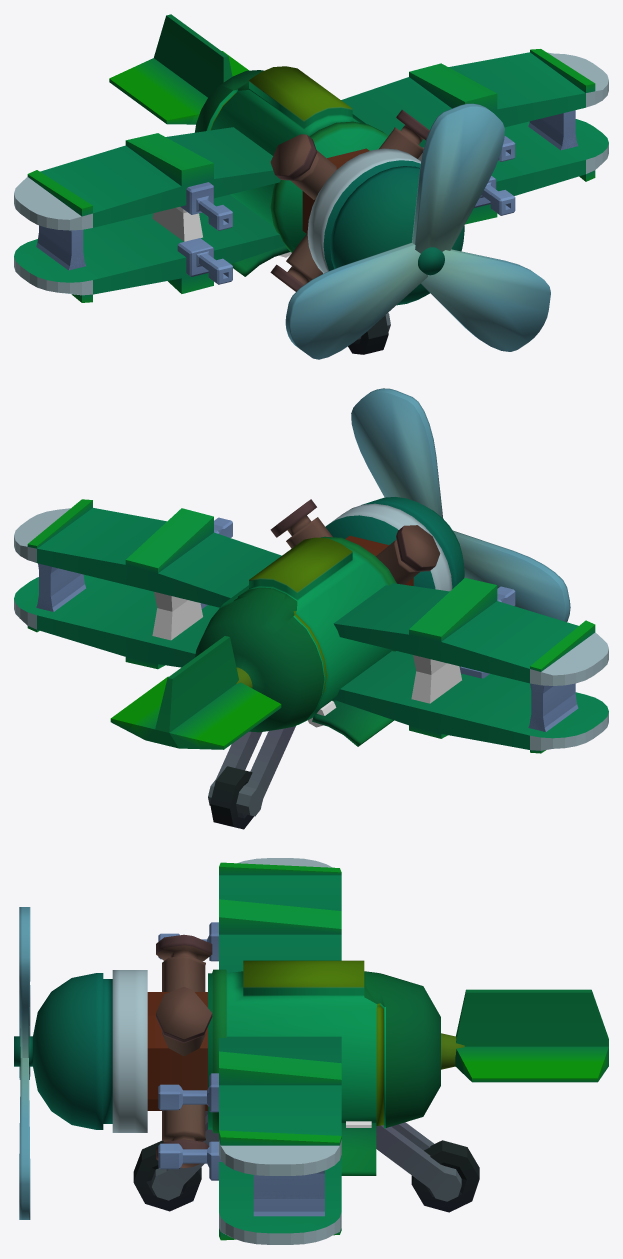
The model's file is самолет 2.fbx.
3 views of the same model, one above another, from view 1: azimuth 30°, elevation 25°; view 2: azimuth 150°, elevation 25°; view 3: azimuth 270°, elevation 25° (orthographic). The views are drawn at different scales.
Parts seen in each view (by area): view 1: Cube.029, Cube.032, Cylinder.013, Cylinder.005, Cube.033, Cylinder.012, Cube.034, Cube.030, Cube.031, Cylinder.021, Cube.028, Cylinder.015; view 2: Cube.029, Cylinder.013, Cube.032, Cube.033, Cylinder.005, Cylinder.016, Cylinder.012, Cube.030, Cube.031, Cylinder.015, Cube.034; view 3: Cube.029, Cylinder.013, Cylinder.005, Cube.033, Cylinder.012, Cylinder.016, Cube.028, Cube.032, Cube.034, Cylinder.021, Cube.030, Cylinder.014.
Boxes of the visible parts, <box> form: Cube.029: <box>14,49,608,302</box>; Cube.032: <box>285,103,550,359</box>; Cylinder.013: <box>195,66,388,252</box>; Cylinder.005: <box>307,148,464,305</box>; Cube.033: <box>109,14,248,124</box>; Cylinder.012: <box>270,110,429,291</box>; Cube.034: <box>177,136,515,284</box>; Cube.030: <box>36,110,578,270</box>; Cube.031: <box>152,147,424,241</box>; Cylinder.021: <box>348,313,390,354</box>; Cube.028: <box>302,148,369,233</box>; Cylinder.015: <box>231,245,289,276</box>; Cube.029: <box>14,499,608,753</box>; Cylinder.013: <box>195,536,396,732</box>; Cube.032: <box>351,388,570,621</box>; Cube.033: <box>110,636,281,749</box>; Cylinder.005: <box>325,497,464,591</box>; Cylinder.016: <box>208,726,295,829</box>; Cylinder.012: <box>270,499,440,584</box>; Cube.030: <box>36,563,578,731</box>; Cube.031: <box>152,592,461,703</box>; Cylinder.015: <box>312,700,393,746</box>; Cube.034: <box>200,517,515,678</box>; Cube.029: <box>219,858,341,1244</box>; Cylinder.013: <box>208,960,464,1133</box>; Cylinder.005: <box>14,970,147,1132</box>; Cube.033: <box>455,989,608,1082</box>; Cylinder.012: <box>156,934,212,1168</box>; Cylinder.016: <box>376,1122,479,1212</box>; Cube.028: <box>147,992,207,1110</box>; Cube.032: <box>19,907,30,1219</box>; Cube.034: <box>158,922,221,1180</box>; Cylinder.021: <box>133,1111,218,1211</box>; Cube.030: <box>253,1170,324,1216</box>; Cylinder.014: <box>341,1123,376,1175</box>.
Bounding box in the file's own units: 924 × 439 × 758.
